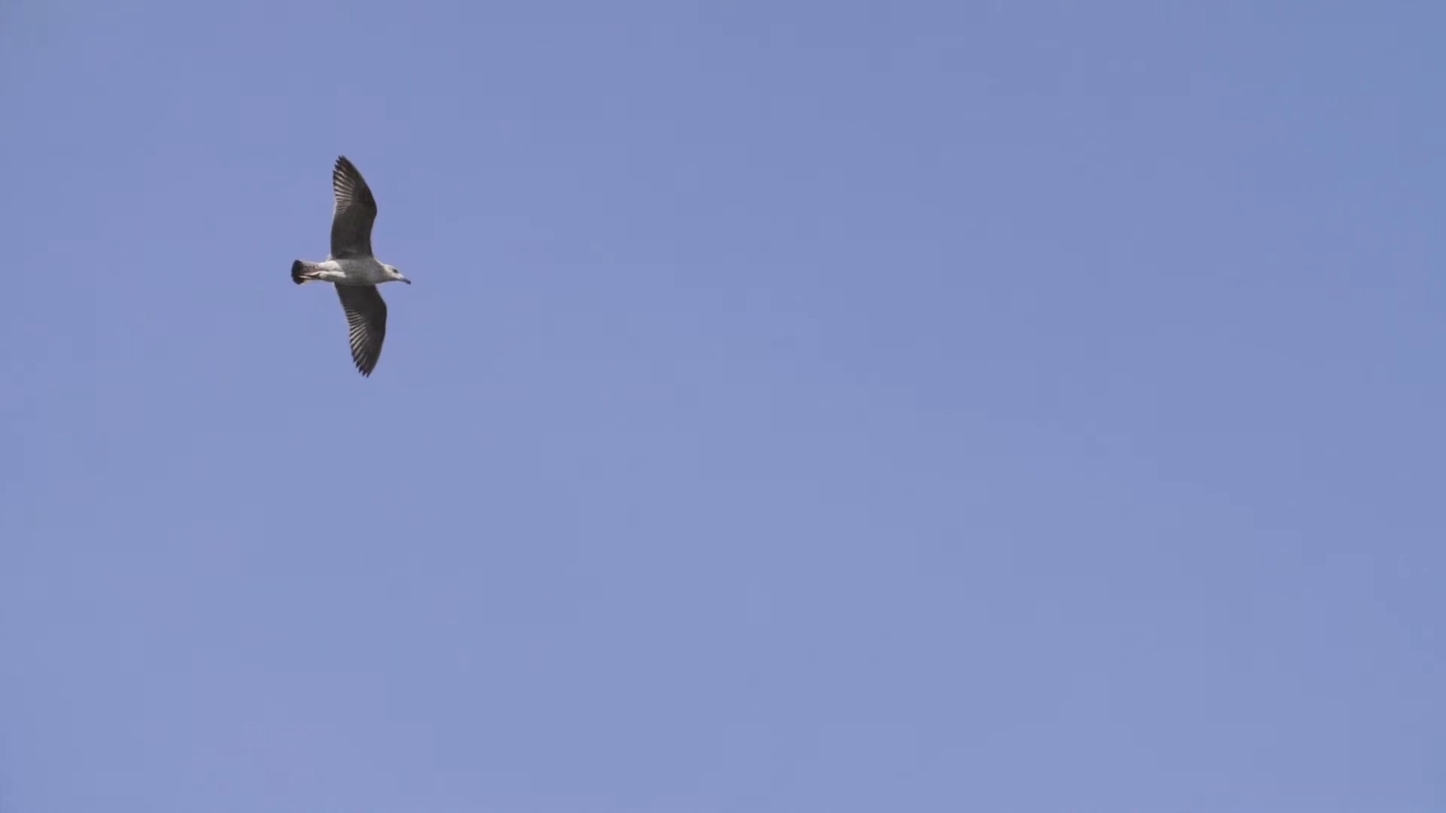bird: (281, 158, 472, 391)
